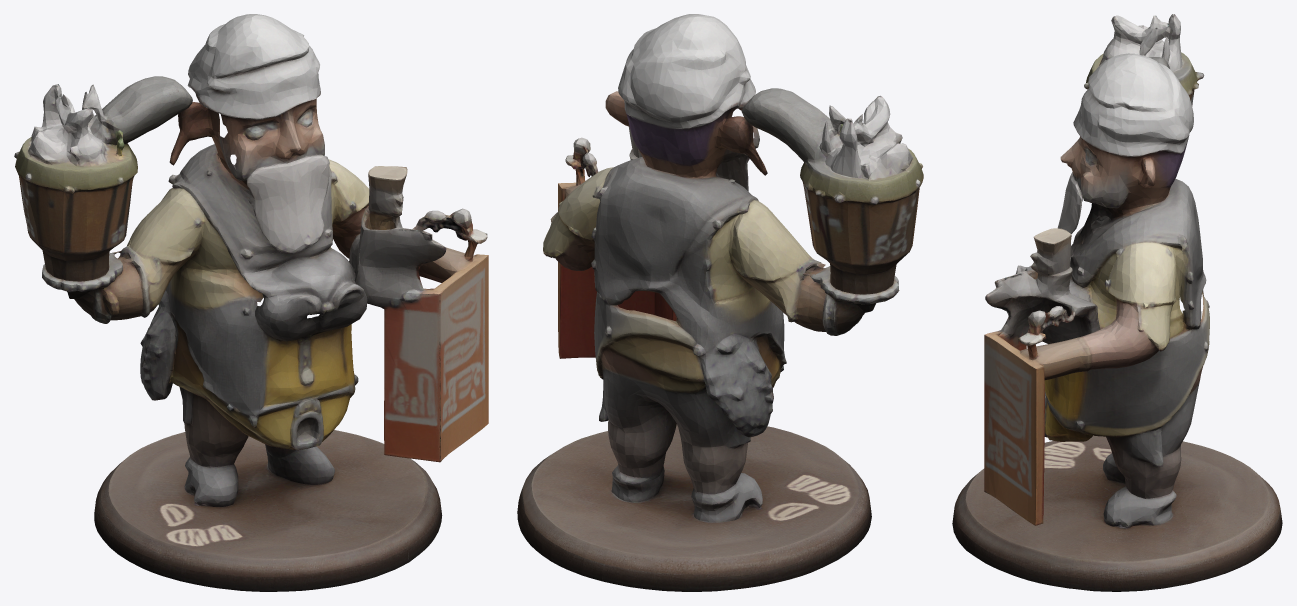
The model's file is npc_innkeeper.glb.
3 renders of one model, left to right at view 1: azimuth 30°, elevation 25°; view 2: azimuth 150°, elevation 25°; view 3: azimuth 270°, elevation 25°, orthographic. The views are drawn at different scales.
Visible parts, largest first — view 1: world; view 2: world; view 3: world.
Part boxes in pixels (box(x1,y1,x2,y2)): world: box(14, 14, 488, 591); world: box(517, 14, 923, 591); world: box(952, 14, 1282, 591).
Bounding box in the file's own units: 0.857 × 0.9991 × 0.6424.
1 material, 1 textured.
